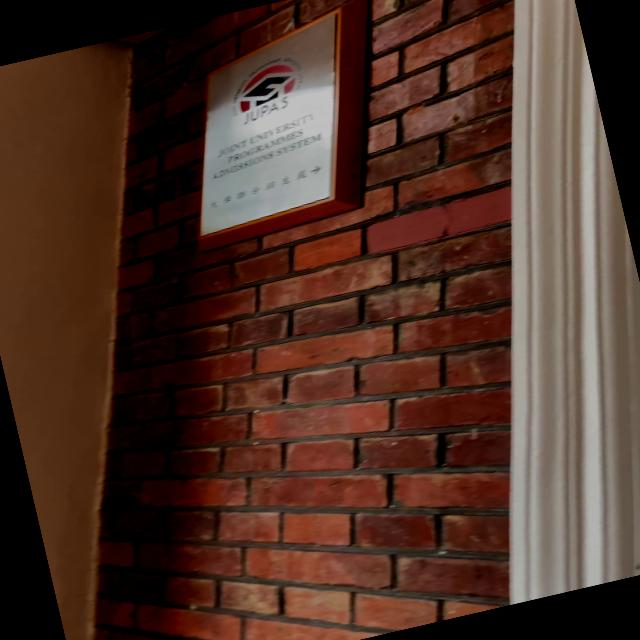jupasOffice: (146, 0, 420, 263)
